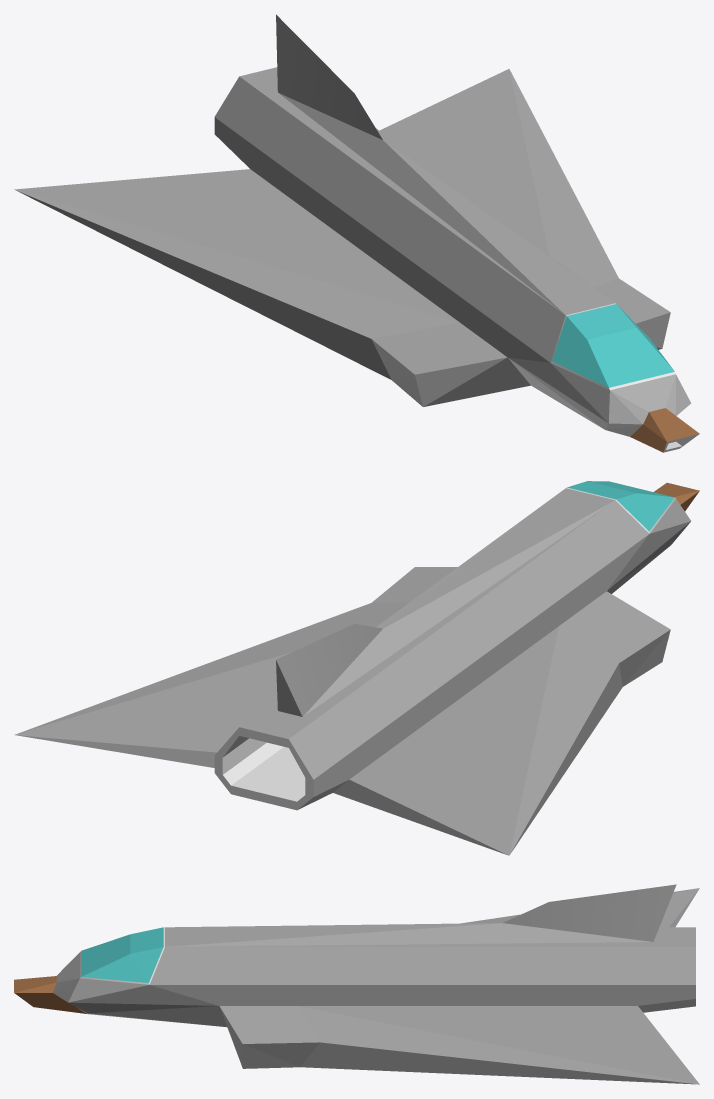
File: player.fbx
3 views of the same model, one above another, from view 1: azimuth 30°, elevation 25°; view 2: azimuth 150°, elevation 25°; view 3: azimuth 270°, elevation 25° (orthographic). The views are drawn at different scales.
Parts seen in each view (by area): view 1: player; view 2: player; view 3: player.
Part boxes in pixels (box(x1,y1,x2,y2)): player: box(14, 14, 699, 452); player: box(14, 481, 699, 855); player: box(14, 884, 699, 1084).
Size of the model in its own units: 1200 by 390 by 1770.
